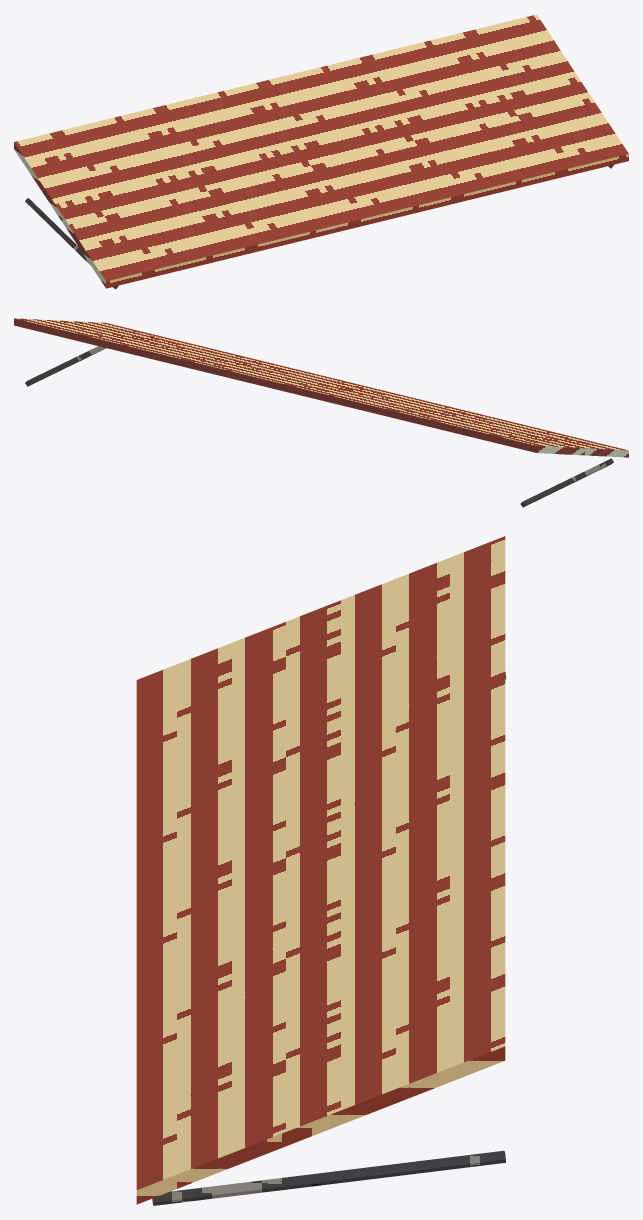
The model's file is wtown.porch__canvas.glb.
3 views of the same model, one above another, from view 1: azimuth 30°, elevation 25°; view 2: azimuth 150°, elevation 25°; view 3: azimuth 270°, elevation 25° (orthographic). The views are drawn at different scales.
Parts seen in each view (by area): view 1: kit_roof, kit_rods; view 2: kit_roof, kit_rods; view 3: kit_roof, kit_rods.
Boxes of the visible parts, x1,y1,x2,y2 form: kit_roof: (14,14,628,288); kit_rods: (25,165,613,289); kit_roof: (14,318,628,457); kit_rods: (25,346,613,507); kit_roof: (136,536,505,1204); kit_rods: (152,672,506,1205).
Size of the model in its own units: 3.8 by 0.601 by 1.16.
Materials: 2 (2 with a texture image).
